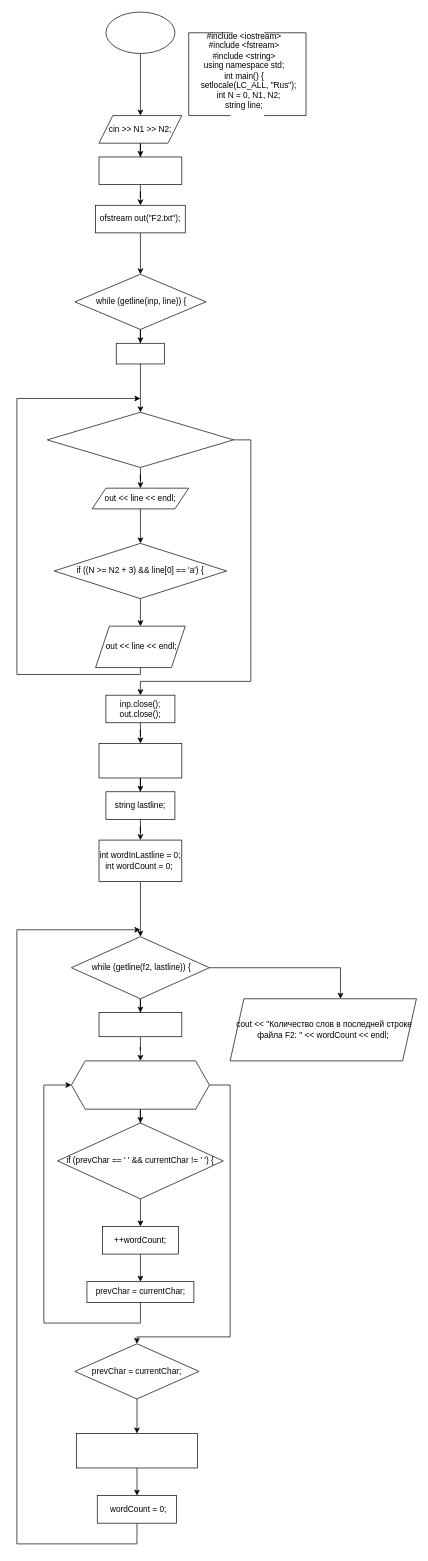
The diagram is 428 pixels wide and 1561 high, and some of its shapes have lost their labels. The centre of each missing label's shape, as x and y in pixels:
++N;: point (140, 353)
char prevChar = ' ';: point (140, 1024)
for (char currentChar : lastline) {: point (140, 1084)
if ((N > N1 && N < N2) && line[0] == 'a') {: point (140, 439)
ifstream f2("F2.txt");: point (140, 760)
ifstream inp("F1.txt");: point (140, 170)
wordInLastline += wordCount;: point (136, 1450)
начало: point (140, 32)
